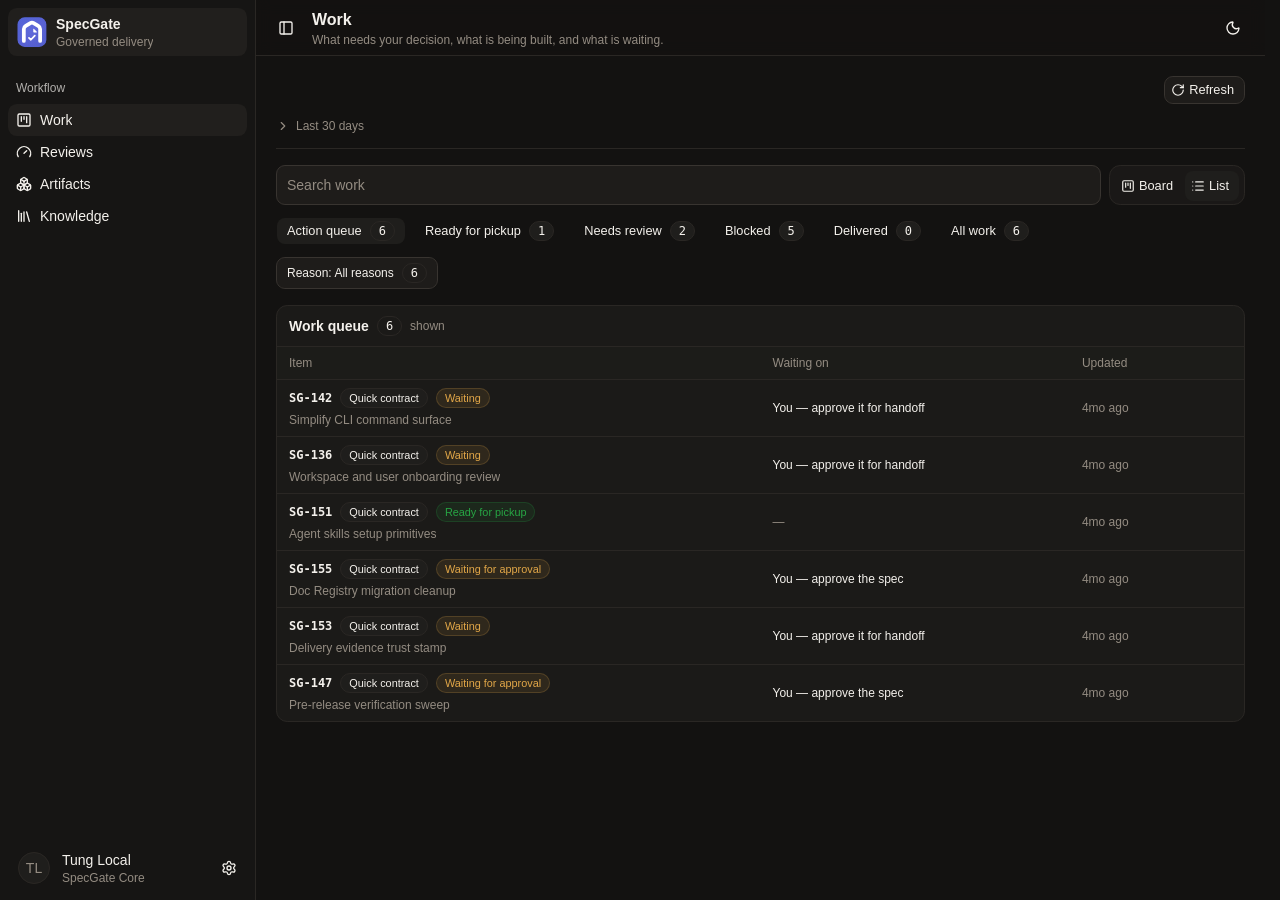
Test: SpecGate UI shell: work review › refreshes Work explicitly and reports the last successful refresh
Click the button with aria-label "Refresh work": coordinates (1205, 90) [1164,76,1245,104]
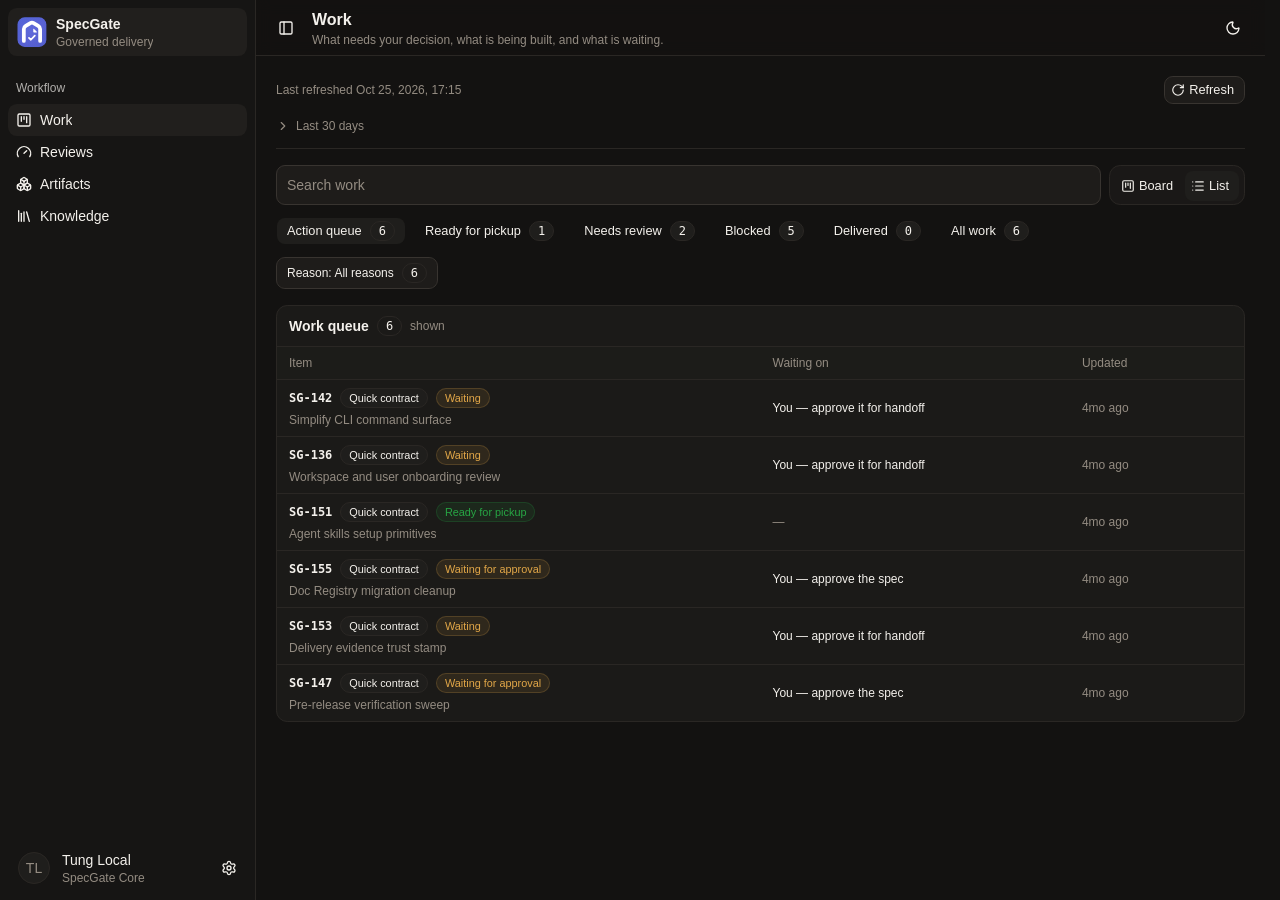
Expected: the text "Last refreshed Oct 25, 2026, 17:15" is shown, [276,82,462,98]
